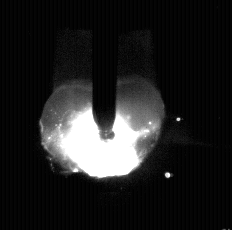arame: (93, 0, 118, 140)
poca: (38, 0, 163, 230)
